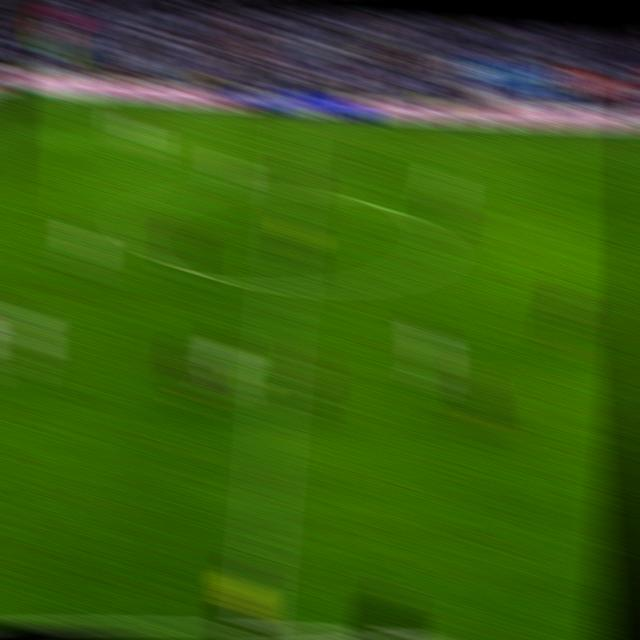halfcircle_bottom: (266, 270, 298, 302)
halfcircle_top: (275, 178, 305, 202)
midline_bottom_intersection: (239, 608, 272, 640)
midline_top_intersection: (283, 111, 308, 130)
